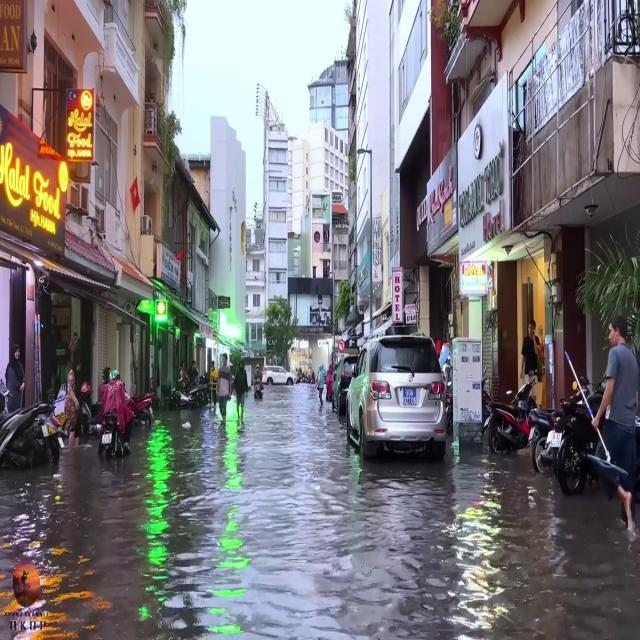bien_xanh: (404, 386, 416, 408)
